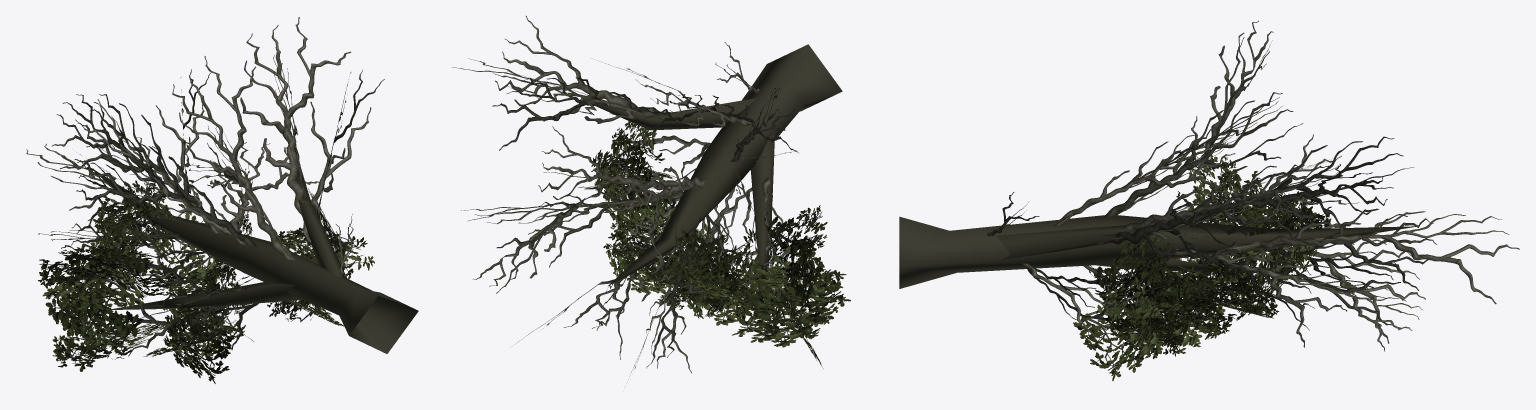
The model's file is MEP_Oak_06_LOD_01.fbx.
3 views of the same model, side by side, from view 1: azimuth 30°, elevation 25°; view 2: azimuth 150°, elevation 25°; view 3: azimuth 270°, elevation 25° (orthographic). The views are drawn at different scales.
Visible parts, largest first — view 1: MEP_Oak_06_LOD_01; view 2: MEP_Oak_06_LOD_01; view 3: MEP_Oak_06_LOD_01.
Boxes of the visible parts, bbox=[...] form: MEP_Oak_06_LOD_01: bbox=[26, 17, 418, 383]; MEP_Oak_06_LOD_01: bbox=[452, 16, 850, 379]; MEP_Oak_06_LOD_01: bbox=[899, 20, 1519, 380].
Bounding box in the file's own units: 13.1 × 10.3 × 18.76.
